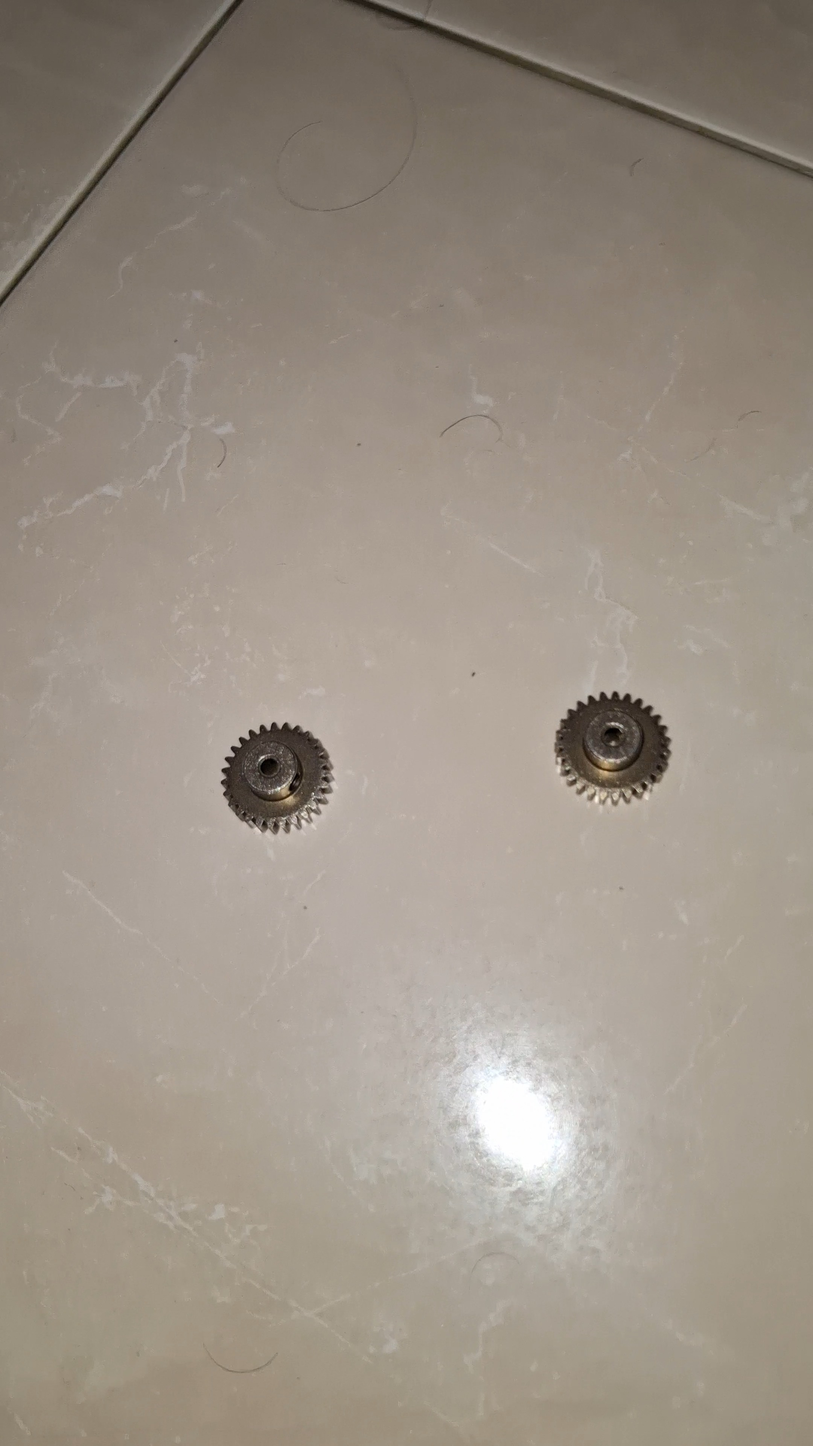spur gear: (556, 692, 670, 803), (223, 724, 332, 833)
